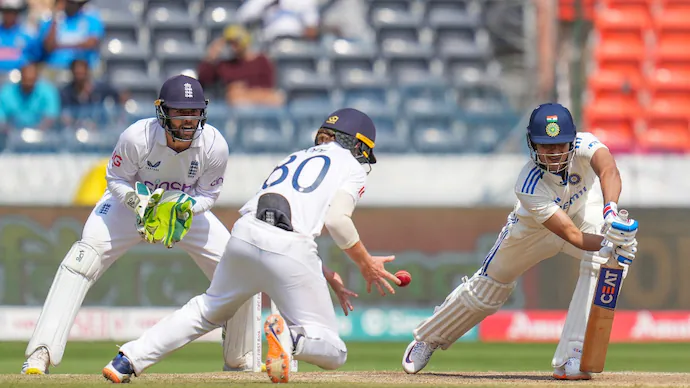Defence: (336, 0, 676, 388)
